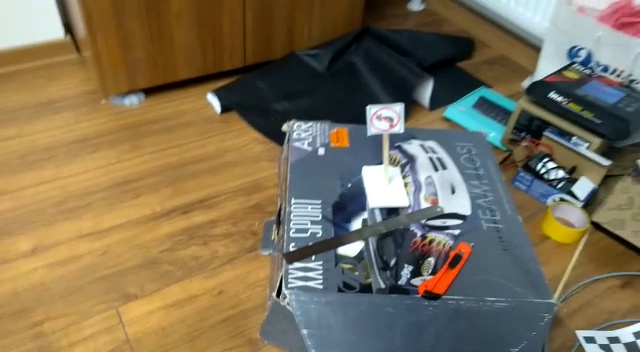sola_donulmez: (369, 104, 403, 136)
